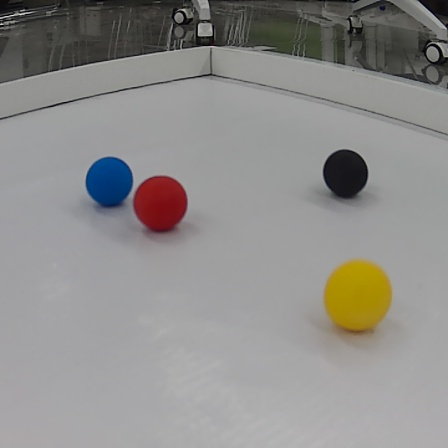black: (321, 145, 370, 203)
blue: (84, 156, 135, 208)
red: (132, 176, 190, 234)
yellow: (319, 257, 393, 335)
